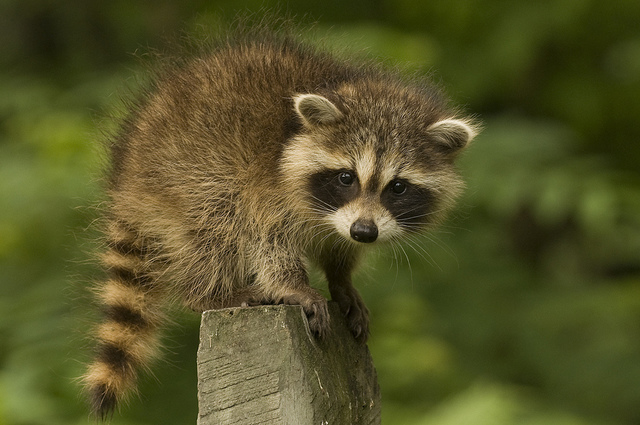raccoon: (71, 21, 483, 407)
